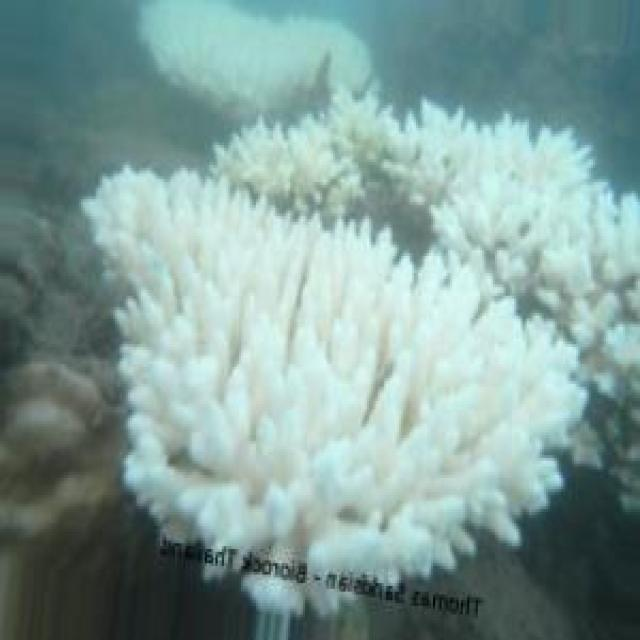bleached coral: (86, 170, 581, 572), (409, 102, 640, 292), (211, 98, 365, 218), (162, 14, 371, 102), (141, 344, 233, 475), (188, 202, 307, 293), (96, 176, 173, 310), (386, 245, 491, 333), (380, 415, 461, 512), (414, 125, 516, 199), (258, 464, 322, 560), (286, 307, 343, 401), (493, 333, 542, 424)
